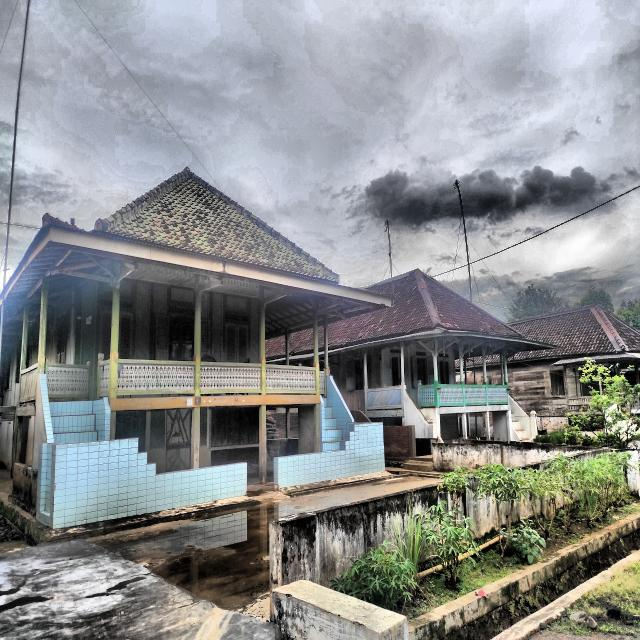column: (38, 286, 48, 363), (259, 405, 267, 484), (110, 295, 119, 358), (191, 406, 200, 469), (20, 308, 28, 371), (194, 303, 201, 362), (313, 319, 319, 367), (260, 313, 265, 363), (323, 318, 328, 367), (459, 344, 464, 384), (482, 345, 487, 385), (503, 350, 508, 385), (433, 353, 438, 384), (485, 412, 490, 440), (462, 413, 467, 439), (500, 353, 504, 385), (285, 335, 289, 366), (401, 346, 404, 386), (364, 353, 367, 389), (464, 358, 467, 384), (473, 357, 475, 385), (475, 412, 477, 436)
door: (99, 314, 131, 386), (390, 355, 406, 404)
ornamen: (99, 359, 195, 397), (201, 362, 262, 394), (46, 363, 89, 398), (266, 364, 316, 393), (438, 384, 464, 406), (465, 384, 487, 405), (488, 385, 508, 404), (420, 384, 435, 407), (319, 371, 325, 393)
roof: (0, 166, 389, 330), (265, 269, 559, 363), (455, 304, 640, 369)
stair: (49, 401, 98, 443), (299, 374, 315, 413), (511, 414, 526, 440)
wall: (1, 288, 264, 482), (335, 341, 458, 444), (456, 357, 624, 418)
window: (225, 323, 246, 363), (345, 358, 364, 391), (56, 325, 67, 364), (550, 369, 565, 396), (416, 358, 427, 385), (439, 360, 449, 384)
